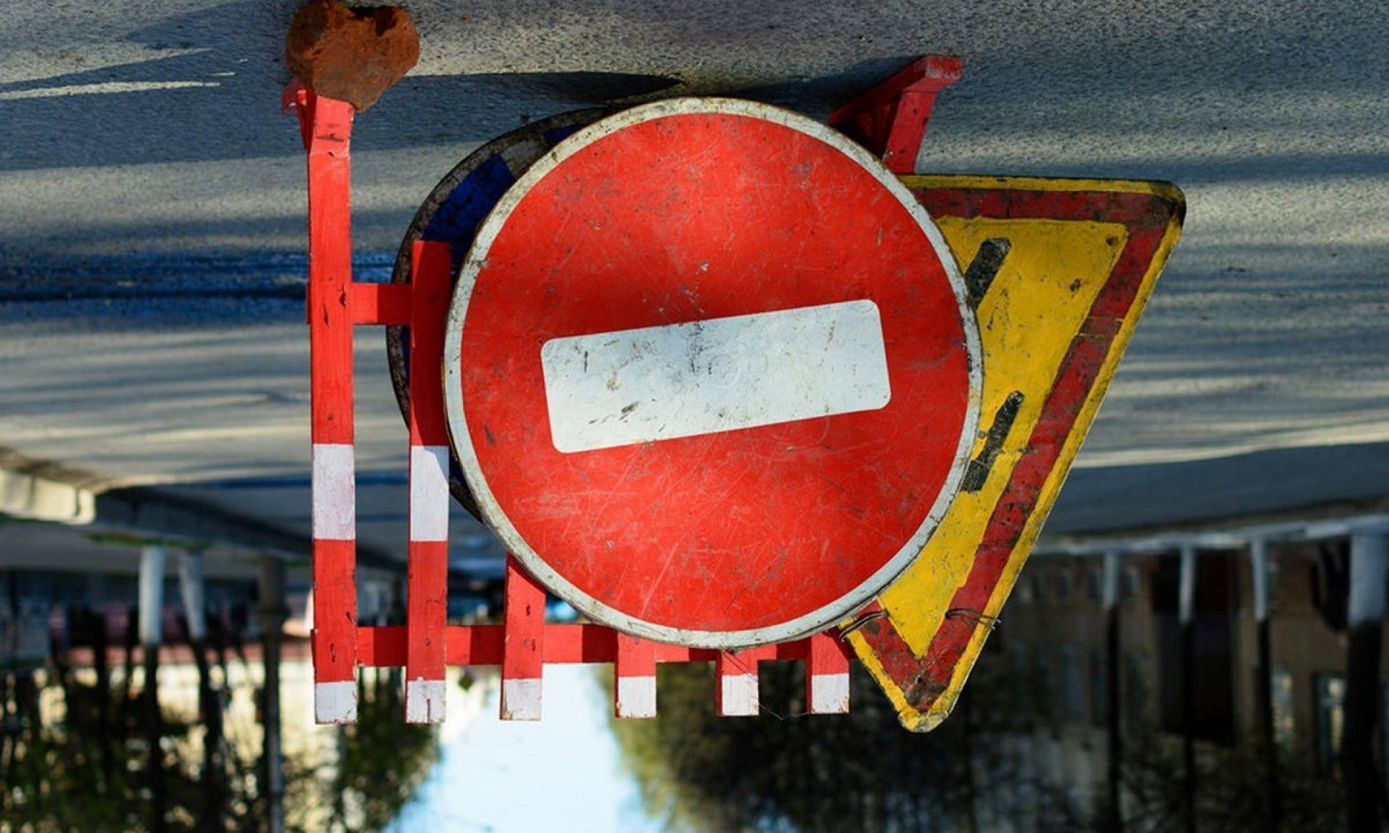obstructed_road_sign: (445, 98, 980, 649), (834, 173, 1194, 740)
